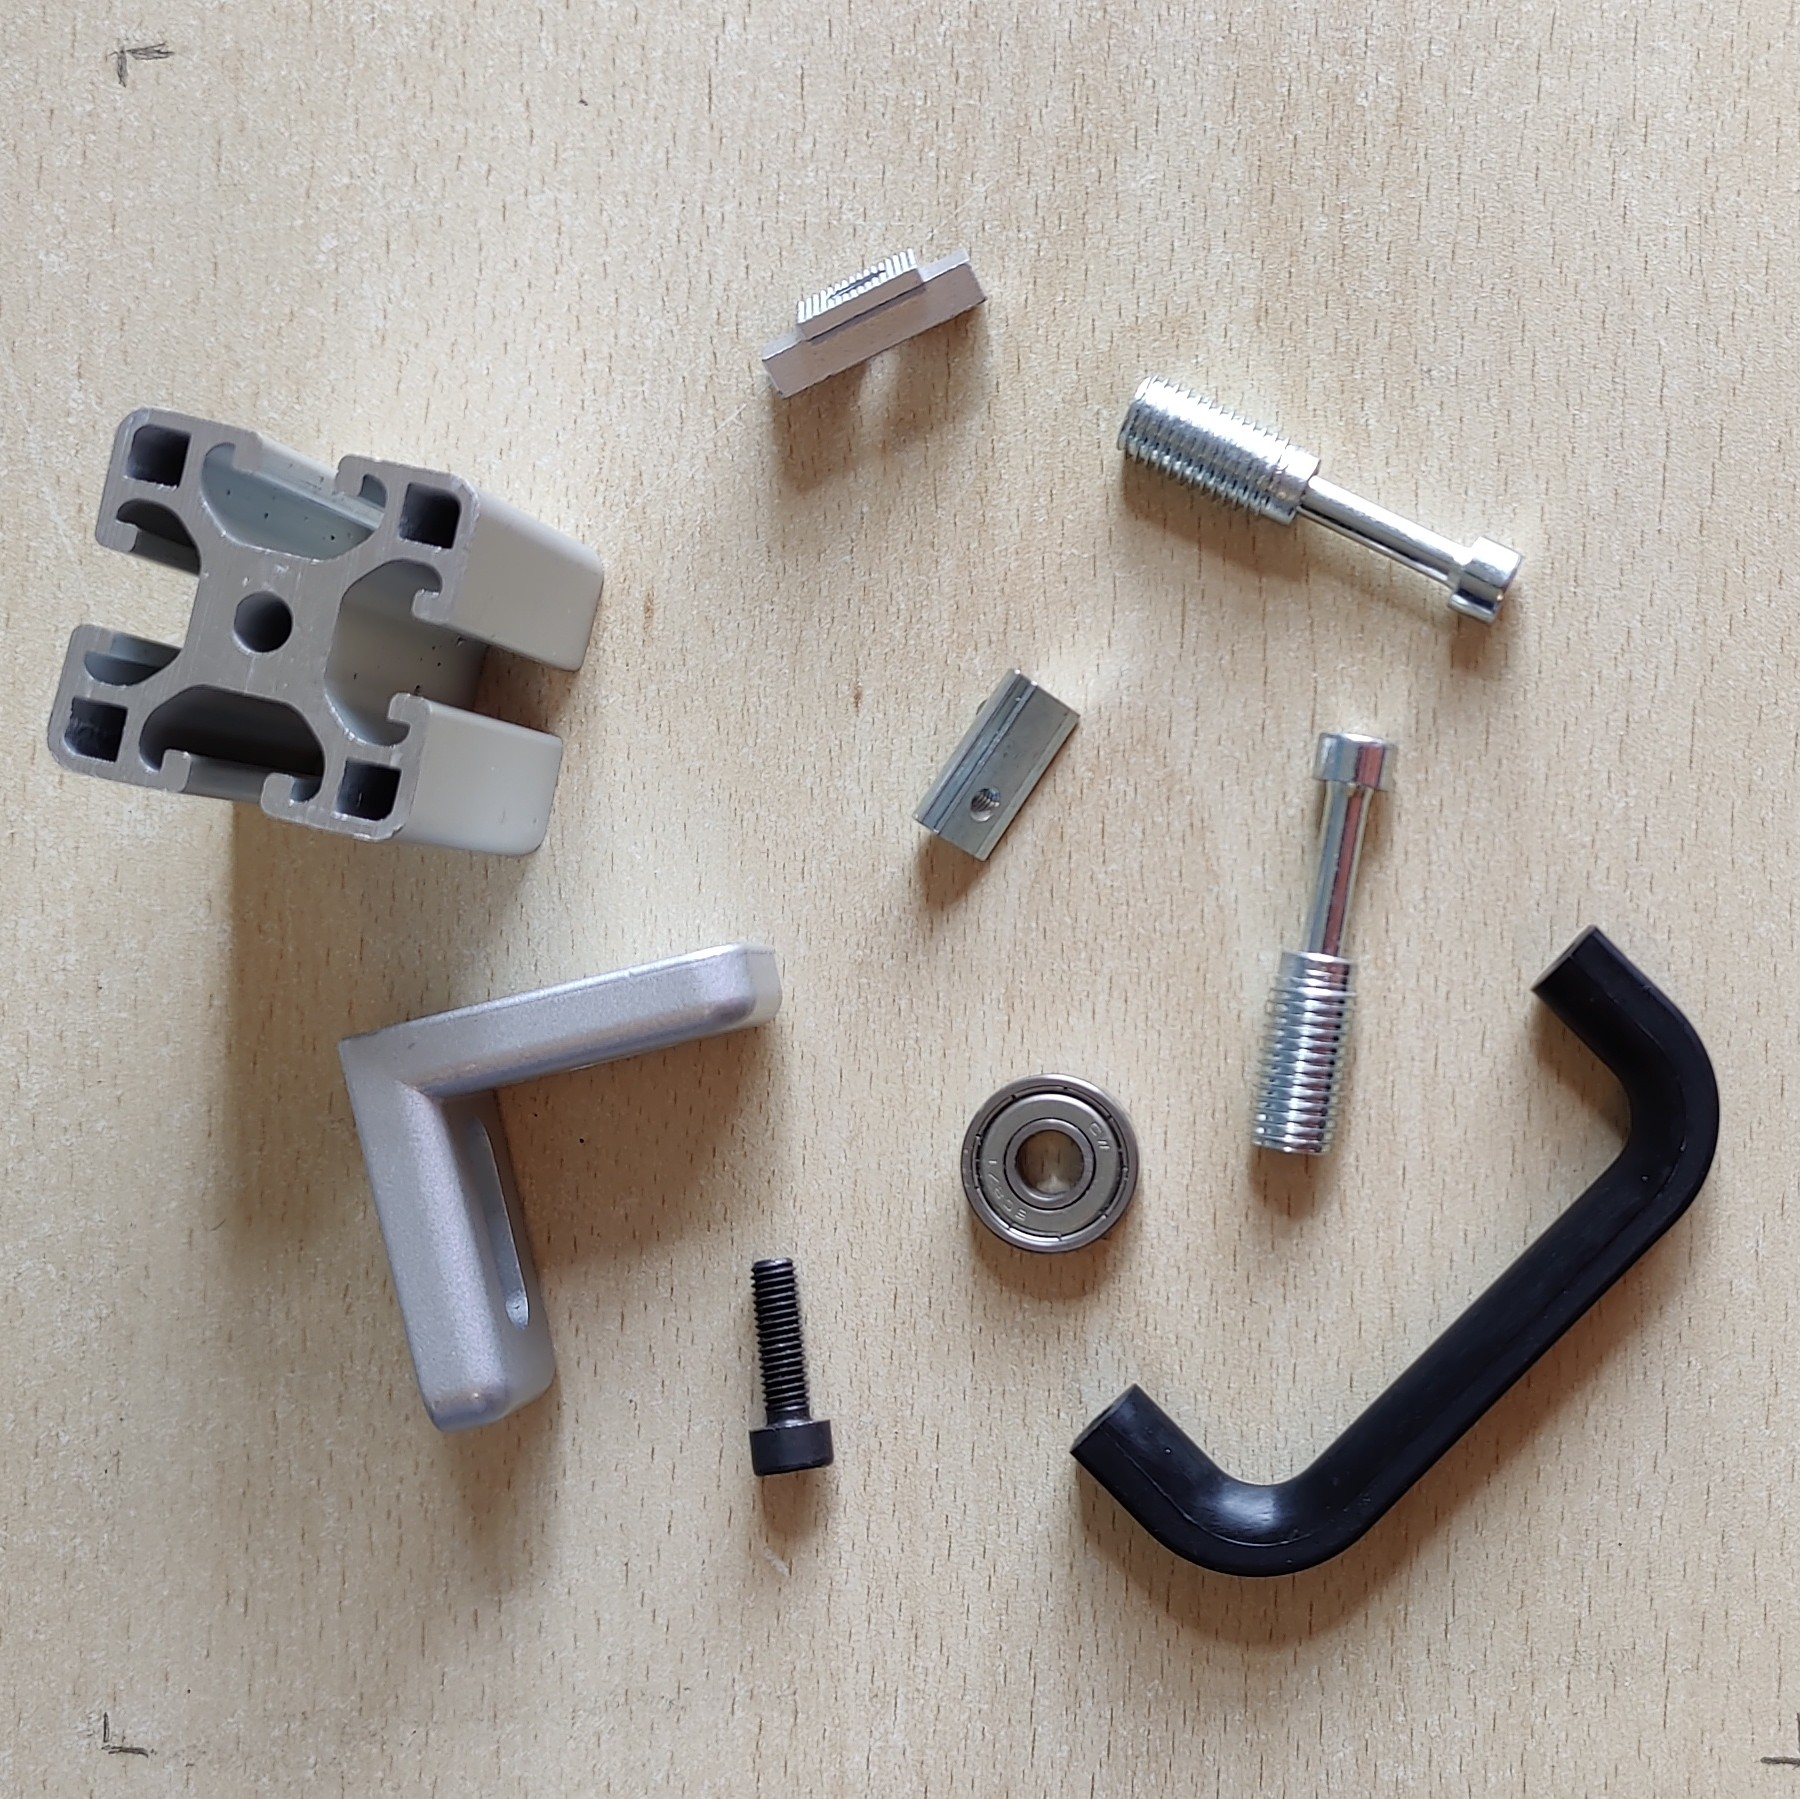Aluminium Extension: (44, 407, 606, 862)
Ball Bearing: (958, 1072, 1140, 1257)
Multiwinkel: (333, 942, 786, 1438)
Pull Handle: (1066, 921, 1724, 1582)
Shoulder Socket Head Cap Screw: (1113, 372, 1532, 631), (1243, 727, 1401, 1158)
Socket Head Cap Screw: (743, 1252, 837, 1479)
T Nut Square: (758, 241, 986, 404)
T Spring Nut: (907, 662, 1084, 867)
